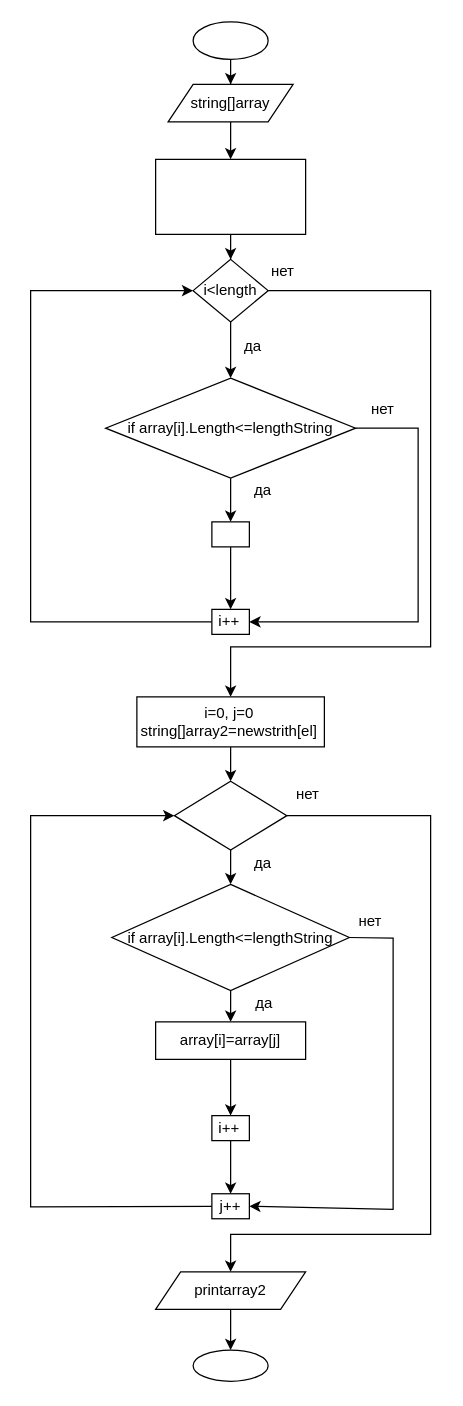
This 463x1406 diagram has some shape labels left out. Each missing label, with the centre of its shape:
el++: point 230,534
i<array.Length: point 230,815
length=array.Length lengthString=3 el=0 i=0: point 230,196
Конец: point 230,1365
Начало: point 230,40
